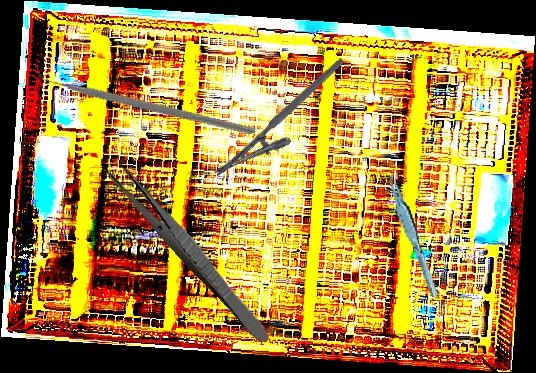Chopper: (32, 4, 257, 192)
Dressing Forceps: (103, 157, 277, 348)
Needle Holder: (213, 57, 361, 194)
Tissue Forceps: (386, 166, 440, 302)
